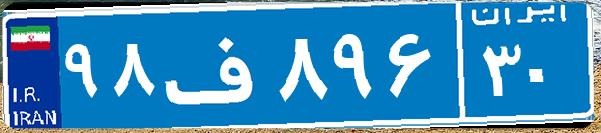0: (525, 38, 570, 115)
3: (475, 38, 525, 113)
6: (385, 28, 445, 110)
8: (273, 28, 330, 110), (110, 28, 158, 105)
9: (330, 28, 385, 110), (57, 26, 110, 107)
ف: (158, 15, 273, 115)
